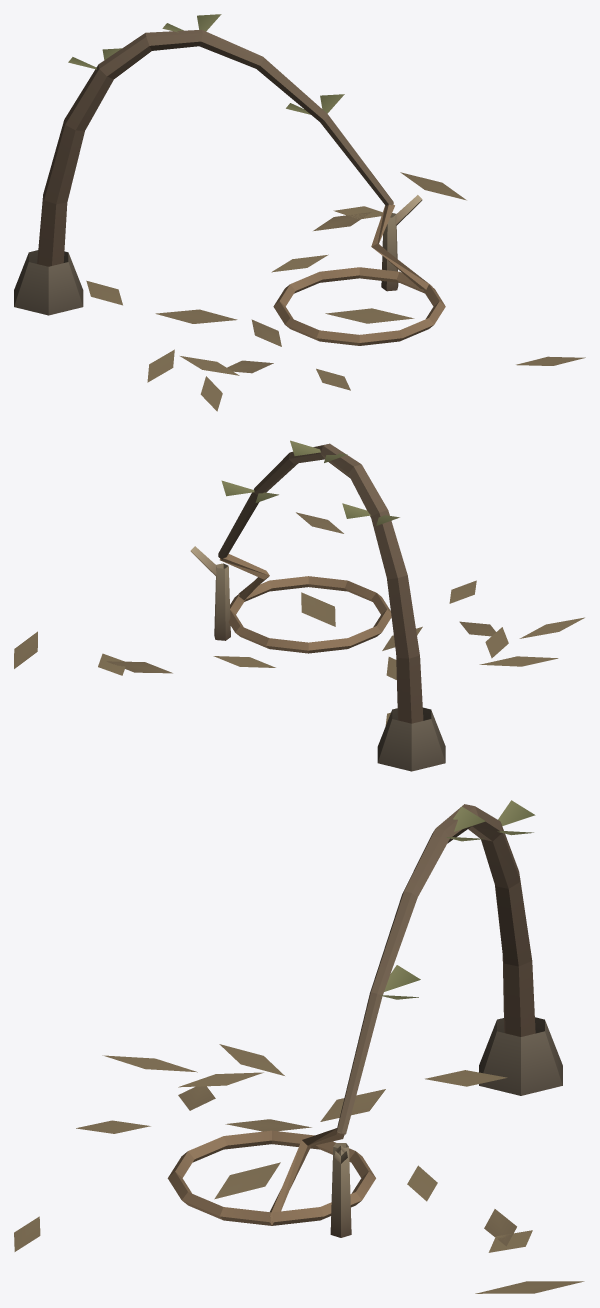
The model's file is hide_snare_a.glb.
3 renders of one model, top to bottom at view 1: azimuth 30°, elevation 25°; view 2: azimuth 150°, elevation 25°; view 3: azimuth 270°, elevation 25°, orthographic. The views are drawn at different scales.
Visible parts, largest first — view 1: Sapling, Frame; view 2: Sapling, Frame; view 3: Sapling, Frame.
Part boxes in pixels (<box>): Sapling: <box>37,14,445,345</box>; Frame: <box>14,172,585,411</box>; Sapling: <box>218,440,423,723</box>; Frame: <box>14,512,584,771</box>; Sapling: <box>167,800,535,1225</box>; Frame: <box>14,1017,584,1293</box>.
Bounding box in the file's own units: 0.8768 × 0.5135 × 0.827.
